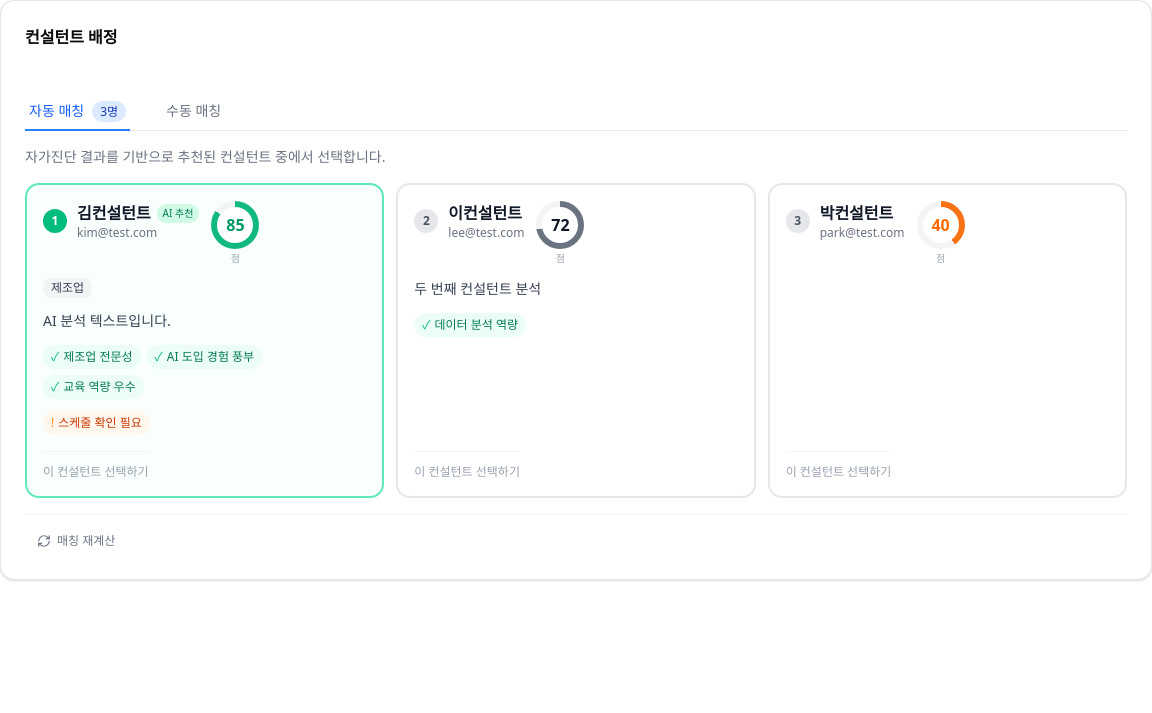
Test: AssignmentTabSection › 추천 결과 표시 › 배정 사유 10자 이상 입력 시 배정하기 버튼이 활성화된다
Click the text "김컨설턴트" at (114, 213), box [77, 201, 151, 225]
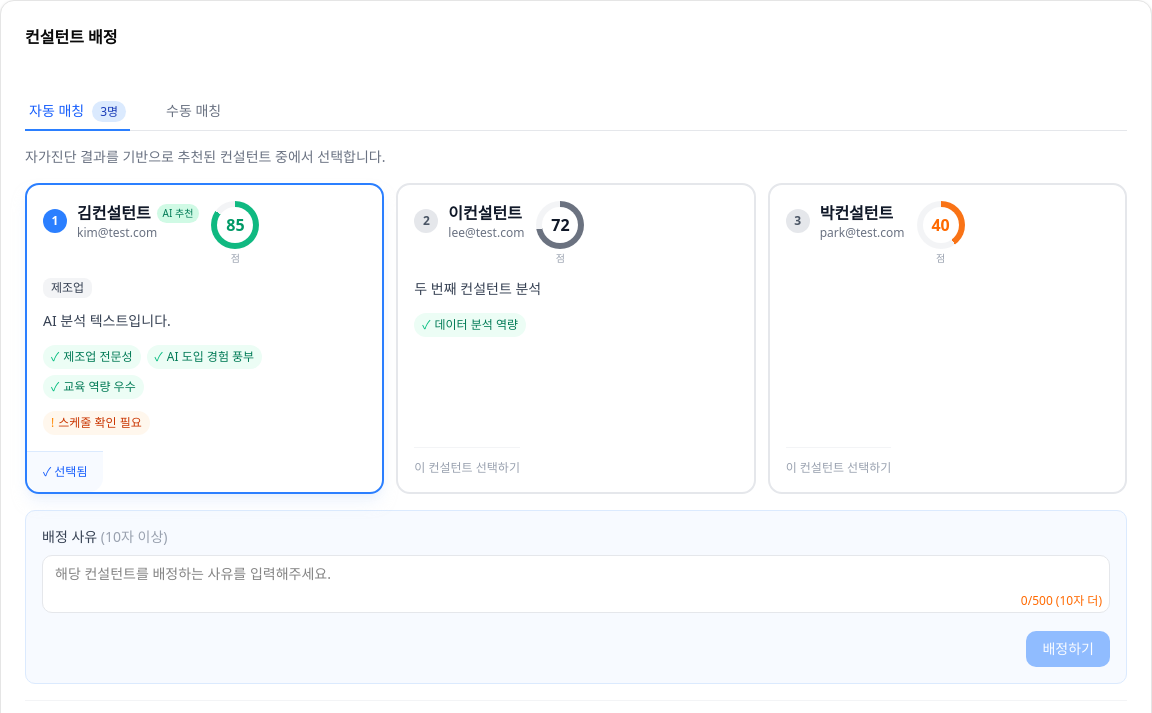
Type "이 컨설턴트가 가장 적합합니다" into the text box with placeholder "해당 컨설턴트를 배정하는 사유를 입력해주세요." at (576, 584), box [42, 555, 1110, 613]
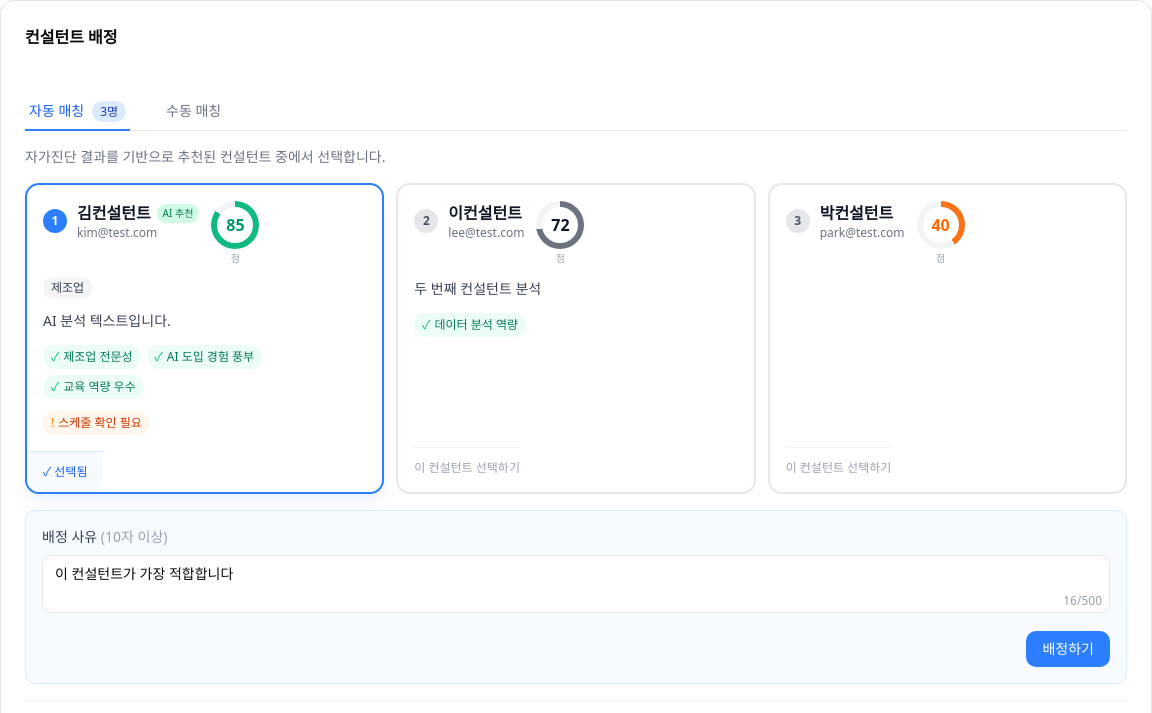
Result: the button "배정하기" is enabled at [1026, 631, 1110, 667]
